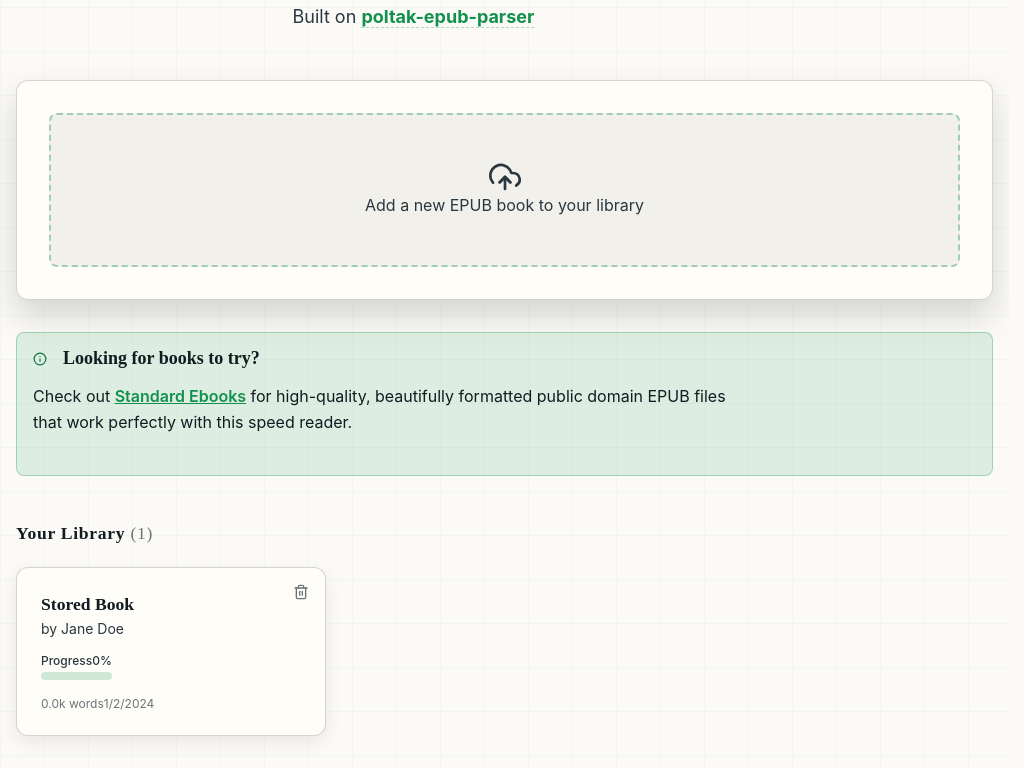
Test: SpeedReader page › keeps reading after the reset dialog is cancelled
(page scrolled)
What coordinates should you click on to do the following:
click the button with aria-label "Open Stored Book"
I would click on:
 (171, 652)
Its box is [41,592,301,711].
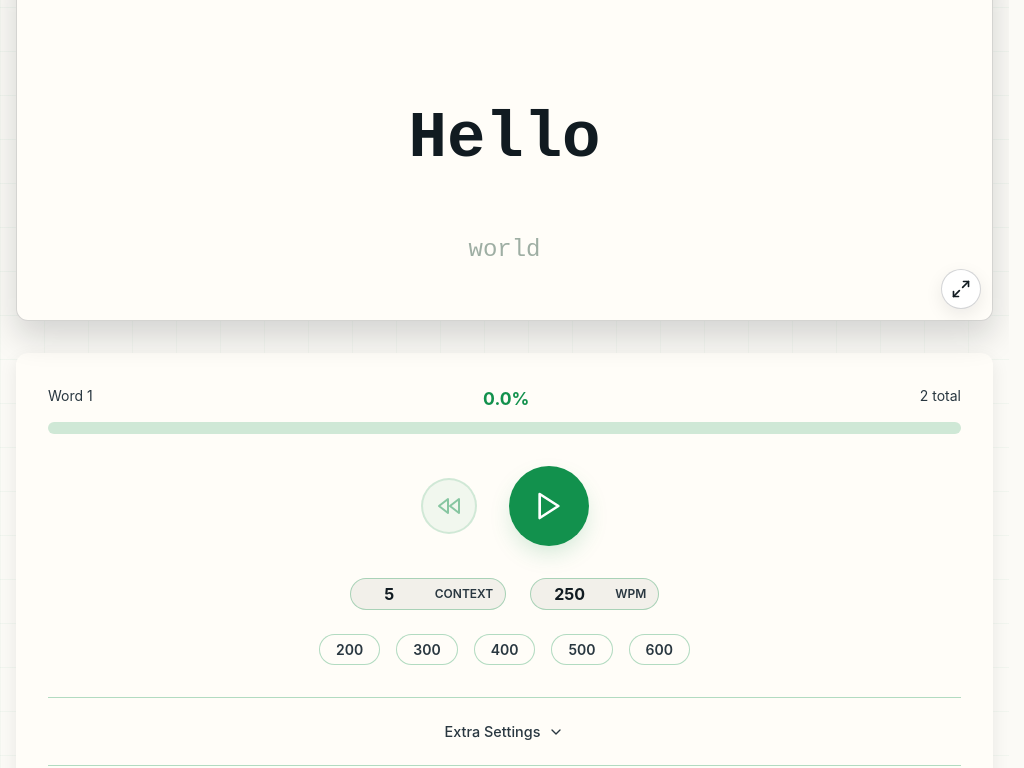
What coordinates should you click on to do the following:
click the button named "Start speed reading"
I would click on:
 (548, 506)
Its box is [508,466,588,546].
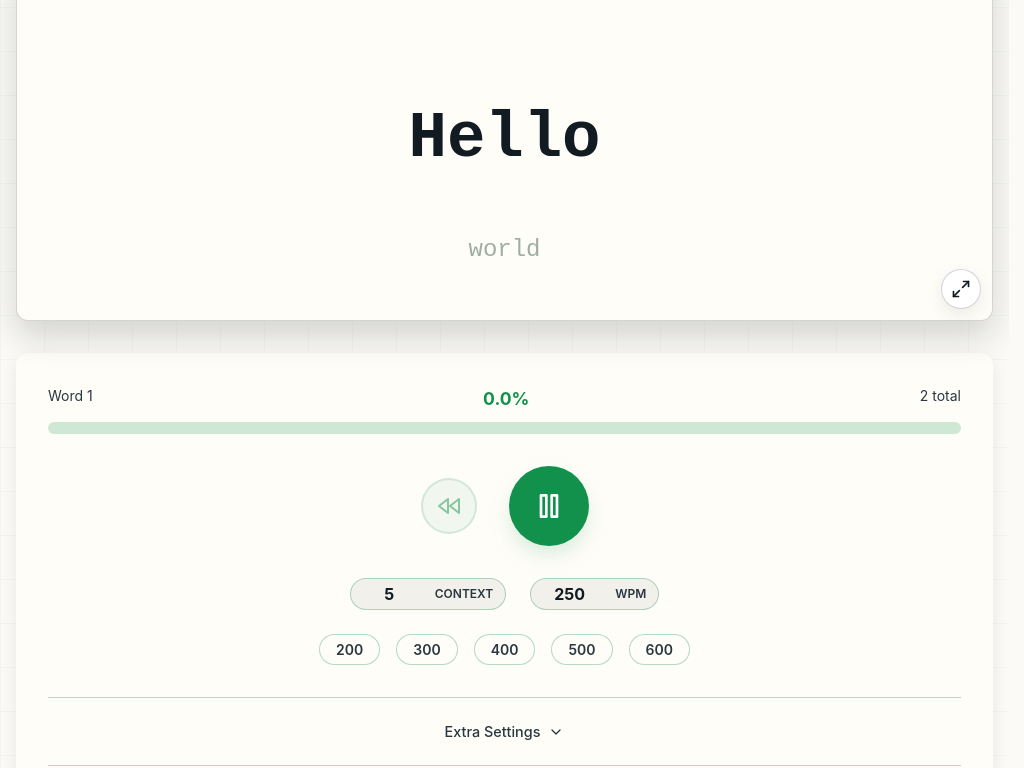
What coordinates should you click on to do the following:
click the button "Extra Settings"
I would click on:
 (504, 732)
Its box is [48,722,961,741].
(page scrolled)
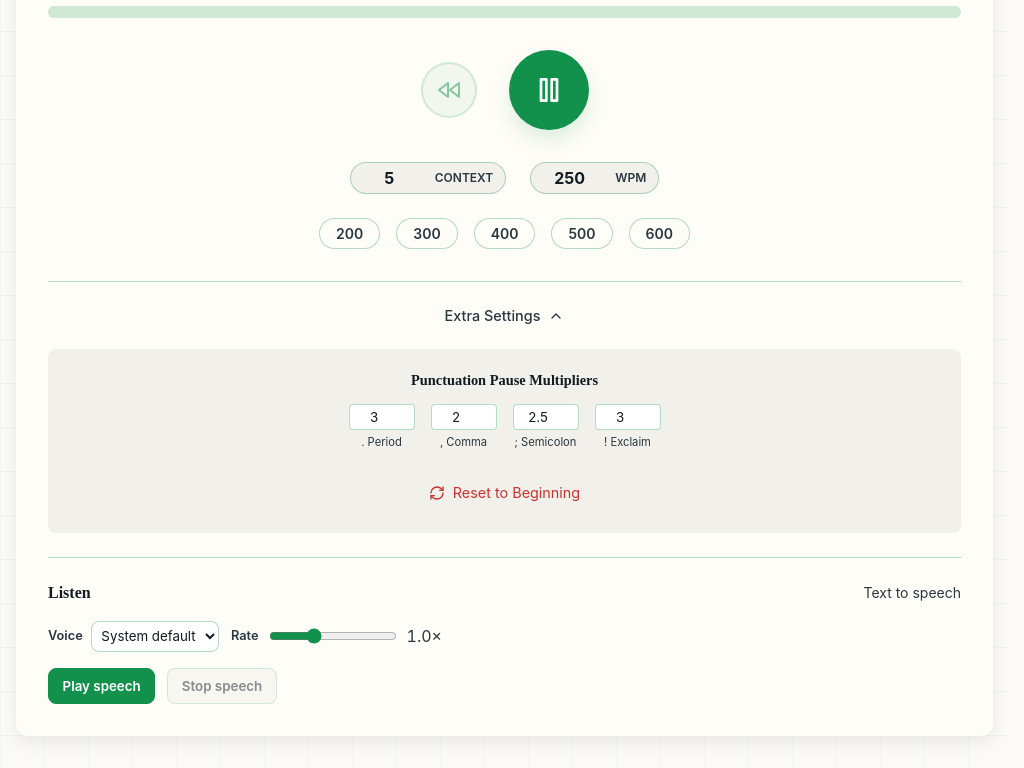
What coordinates should you click on to do the following:
click the button "Reset to Beginning"
I would click on:
 (504, 493)
Its box is [413,476,596,509].
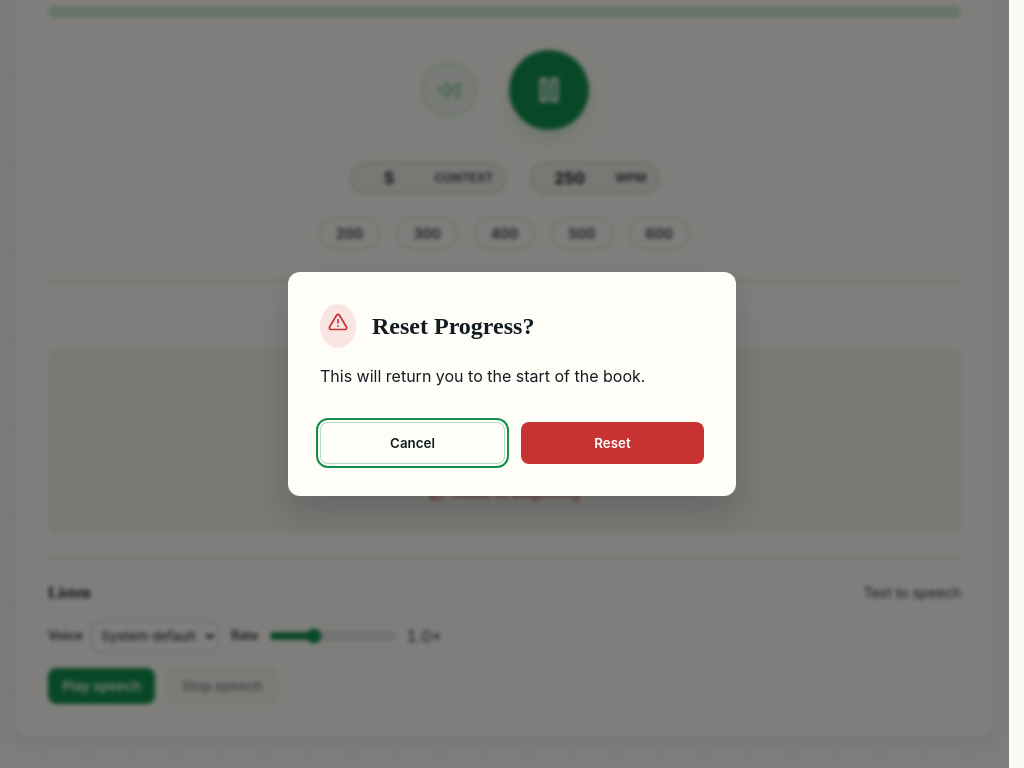
What coordinates should you click on to do the following:
click the button "Cancel"
I would click on:
 (412, 443)
Its box is [320,422,505,464].
Wait 250 ms
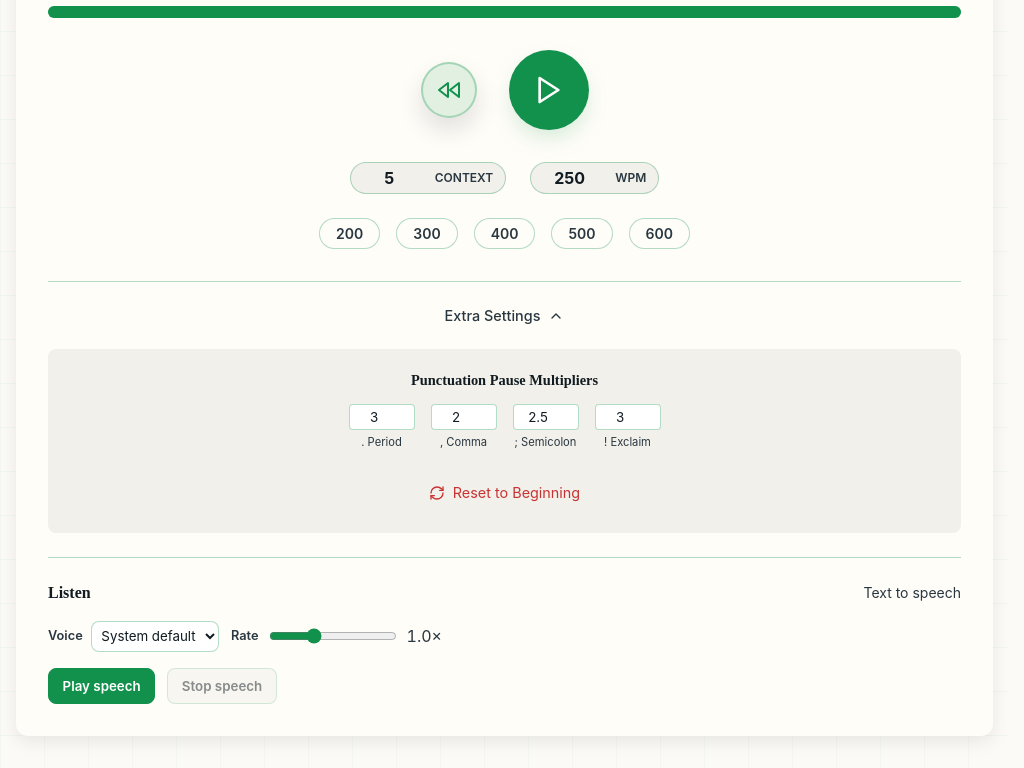
Check: the button named "Start speed reading" is shown, box [508,50,588,130]
